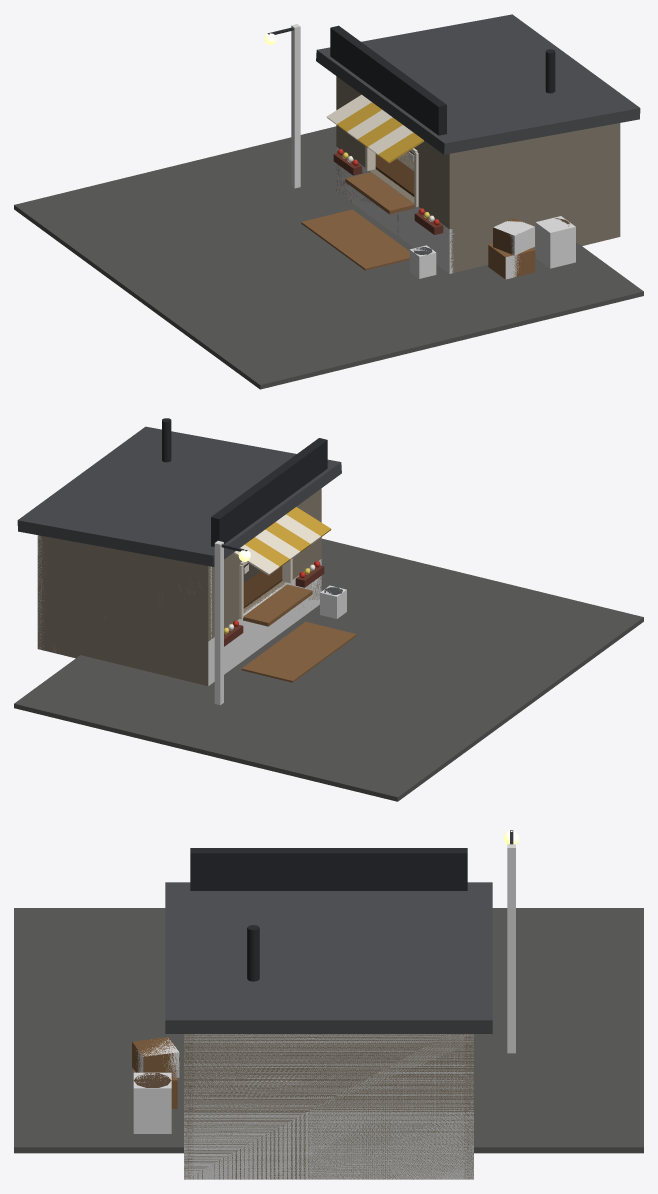
File: booth-6.glb
3 renders of one model, top to bottom at view 1: azimuth 30°, elevation 25°; view 2: azimuth 150°, elevation 25°; view 3: azimuth 270°, elevation 25°, orthographic. The views are drawn at different scales.
Parts seen in each view (by area): view 1: 26_#5a5a58_noshadow, 27_#4c4e52, 16_#8a8070, 28_#2a2c30_noshadow, 04_#8a6440_noshadow, solid.008, 17_#8a8070_r320, 09_#8a6440_r320, 00_#e8e0d0_noshadow_r320, solid.003, 01_#c9a13a_noshadow_r320, solid.004 (+4 smaller); view 2: 26_#5a5a58_noshadow, 27_#4c4e52, 16_#8a8070, 28_#2a2c30_noshadow, 04_#8a6440_noshadow, solid.008, 00_#e8e0d0_noshadow_r320, 17_#8a8070_r320, solid.004, 01_#c9a13a_noshadow_r320, 09_#8a6440_r320, 21_#5a3e26_noshadow (+2 smaller); view 3: 26_#5a5a58_noshadow, 27_#4c4e52, solid.005, 16_#8a8070, 28_#2a2c30_noshadow, solid.003, solid.004, 10_#7a5a3a_r110, 15_#2a2c30_r320, solid.002.
Boxes of the visible parts, x1,y1,x2,y2 form: 26_#5a5a58_noshadow: [14, 126, 643, 389]; 27_#4c4e52: [316, 14, 640, 154]; 16_#8a8070: [336, 76, 620, 273]; 28_#2a2c30_noshadow: [330, 25, 446, 135]; 04_#8a6440_noshadow: [301, 209, 409, 270]; solid.008: [336, 147, 453, 273]; 17_#8a8070_r320: [336, 93, 455, 228]; 09_#8a6440_r320: [345, 172, 535, 279]; 00_#e8e0d0_noshadow_r320: [326, 94, 418, 206]; solid.003: [535, 216, 575, 268]; 01_#c9a13a_noshadow_r320: [337, 102, 423, 163]; solid.004: [291, 24, 300, 188]; 26_#5a5a58_noshadow: [14, 538, 643, 801]; 27_#4c4e52: [17, 426, 341, 566]; 16_#8a8070: [37, 488, 321, 685]; 28_#2a2c30_noshadow: [211, 438, 327, 546]; 04_#8a6440_noshadow: [241, 621, 356, 682]; solid.008: [208, 559, 321, 685]; 00_#e8e0d0_noshadow_r320: [234, 514, 320, 619]; 17_#8a8070_r320: [207, 505, 321, 638]; solid.004: [214, 540, 223, 705]; 01_#c9a13a_noshadow_r320: [245, 507, 331, 567]; 09_#8a6440_r320: [243, 584, 312, 626]; 21_#5a3e26_noshadow: [243, 566, 282, 608]; 26_#5a5a58_noshadow: [14, 908, 643, 1153]; 27_#4c4e52: [165, 882, 492, 1033]; solid.005: [184, 1034, 473, 1179]; 16_#8a8070: [184, 1034, 473, 1179]; 28_#2a2c30_noshadow: [190, 848, 467, 890]; solid.003: [133, 1072, 171, 1133]; solid.004: [507, 844, 515, 1053]; 10_#7a5a3a_r110: [132, 1037, 179, 1078]; 15_#2a2c30_r320: [247, 925, 259, 981]; solid.002: [136, 1038, 179, 1077].
Bounding box in the file's own units: 10.3 × 3.95 × 10.
